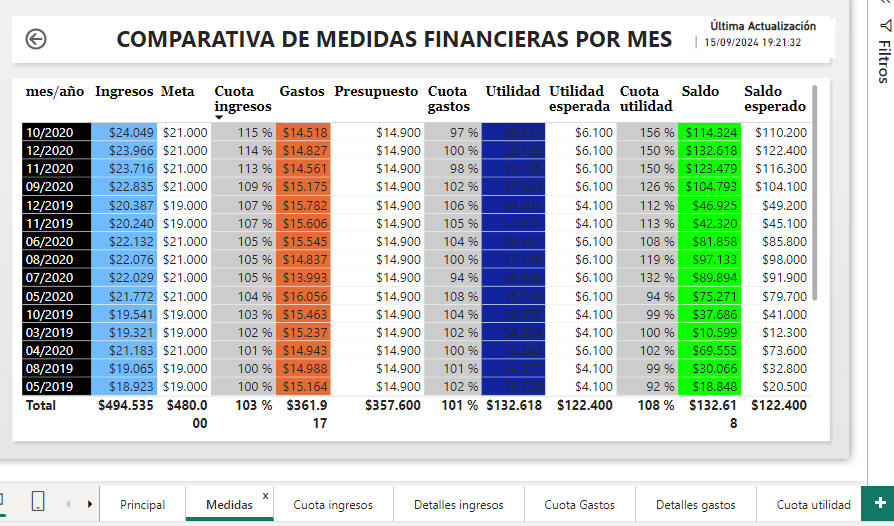

What the dashboard file says about the page in this screenshot:
{"tool":"powerbi","page":{"name":"Medidas","canvas":[1280,720],"ordinal":1},"visuals":[{"type":"tableEx","fields":{"Values":["Calendarios 20192020.mes/año","Finanzas.Ingresos","Expectativas.Meta","Cuota %.Cuota ingresos","Finanzas.Gastos","Expectativas.Presupuesto","Cuota %.Cuota gastos","Finanzas.Utilidad","Expectativas.Utilidad esperada","Expectativas.Cuota utilidad","Cuota %.Saldo","Cuota %.Saldo esperado"]},"box":[65.2,147.4,1149.4,506],"z":0},{"type":"textbox","box":[121.6,58.6,965.4,55.8],"z":1},{"type":"actionButton","box":[71.5,67.2,50.1,40],"z":2},{"type":"multiRowCard","title":"Última Actualización","fields":{"Values":["Fecha Actualización.Ultima Actualización"]},"box":[1029.7,58.6,204.5,55.8],"z":3}]}

Visuals, with their boxes on the page's 1280x720 design canvas (x1, y1, x2, y2). These are canvas units, not pixel positions in the 894x526 screenshot, which may show the page scaled, cropped or inside an application window:
tableEx - Calendarios 20192020.mes/año x Finanzas.Ingresos: <box>65,147,1215,653</box>
textbox: <box>122,59,1087,114</box>
actionButton: <box>72,67,122,107</box>
"Última Actualización" multiRowCard: <box>1030,59,1234,114</box>
